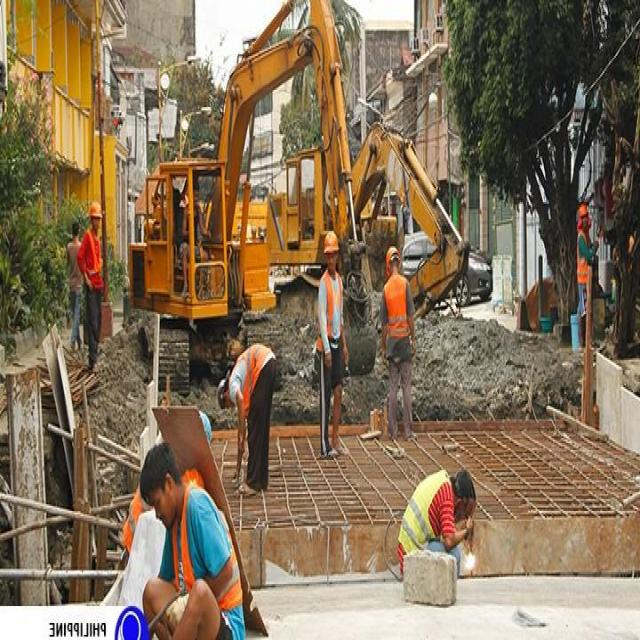Reflective-Jacket: (396, 465, 454, 554), (237, 340, 275, 406), (316, 270, 345, 355), (383, 275, 411, 346)
Safety-Helmet: (324, 227, 339, 253), (88, 199, 102, 219), (386, 244, 400, 262)
